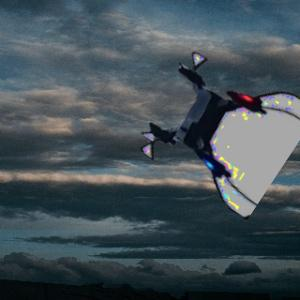drone: (147, 56, 295, 204)
